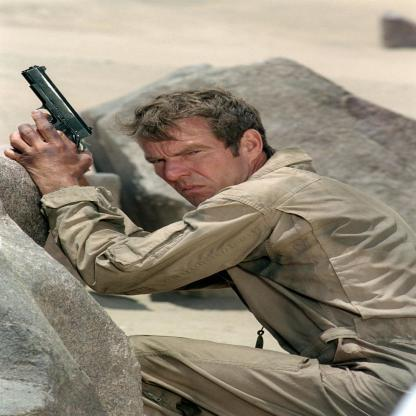gun: (3, 42, 105, 166)
